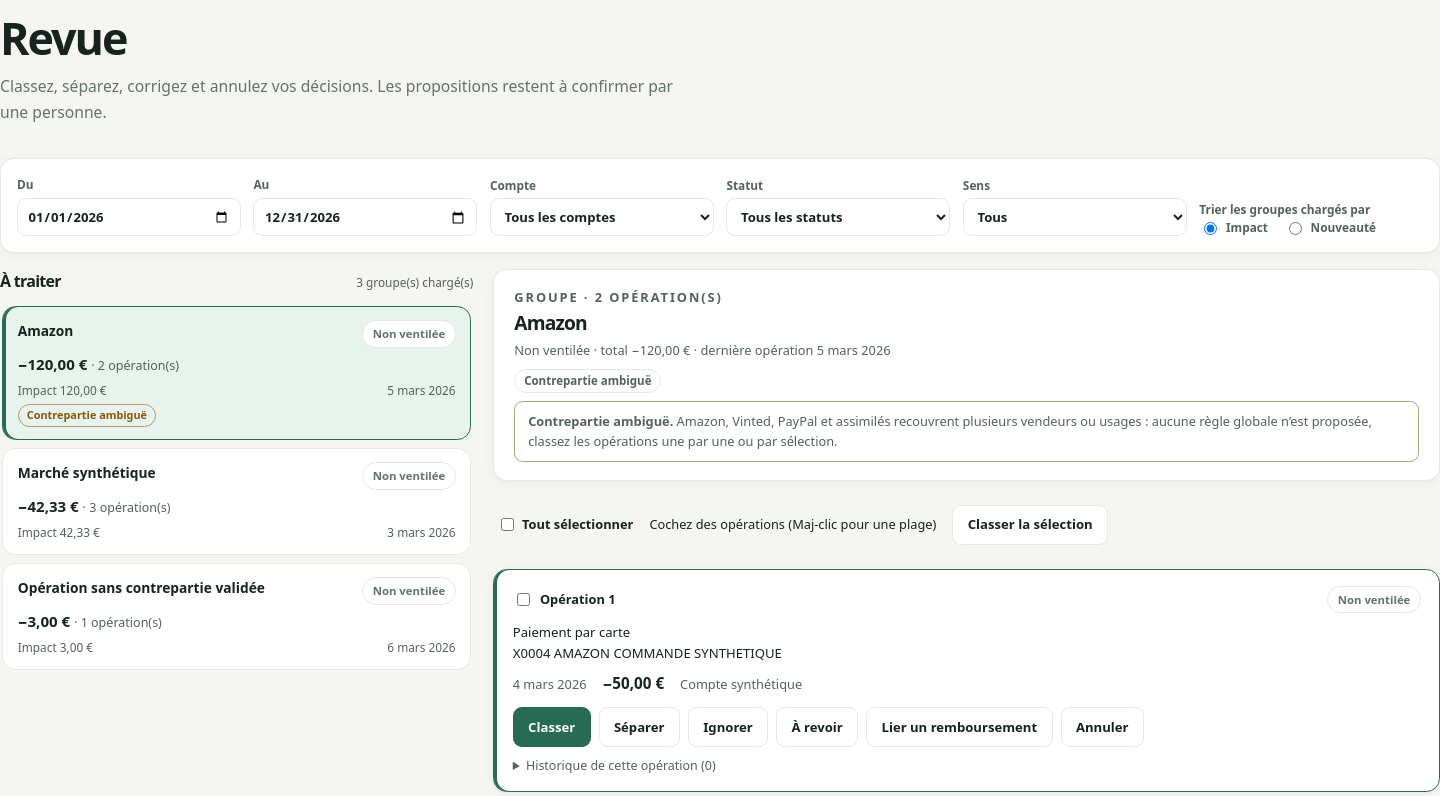
Test: UI-REVIEW-07 · clavier et accessibilité › navigue avec j/k, ouvre l’aide avec ? et rend le focus à la fermeture
This screenshot has width=1440, height=796.
Type keys "j"
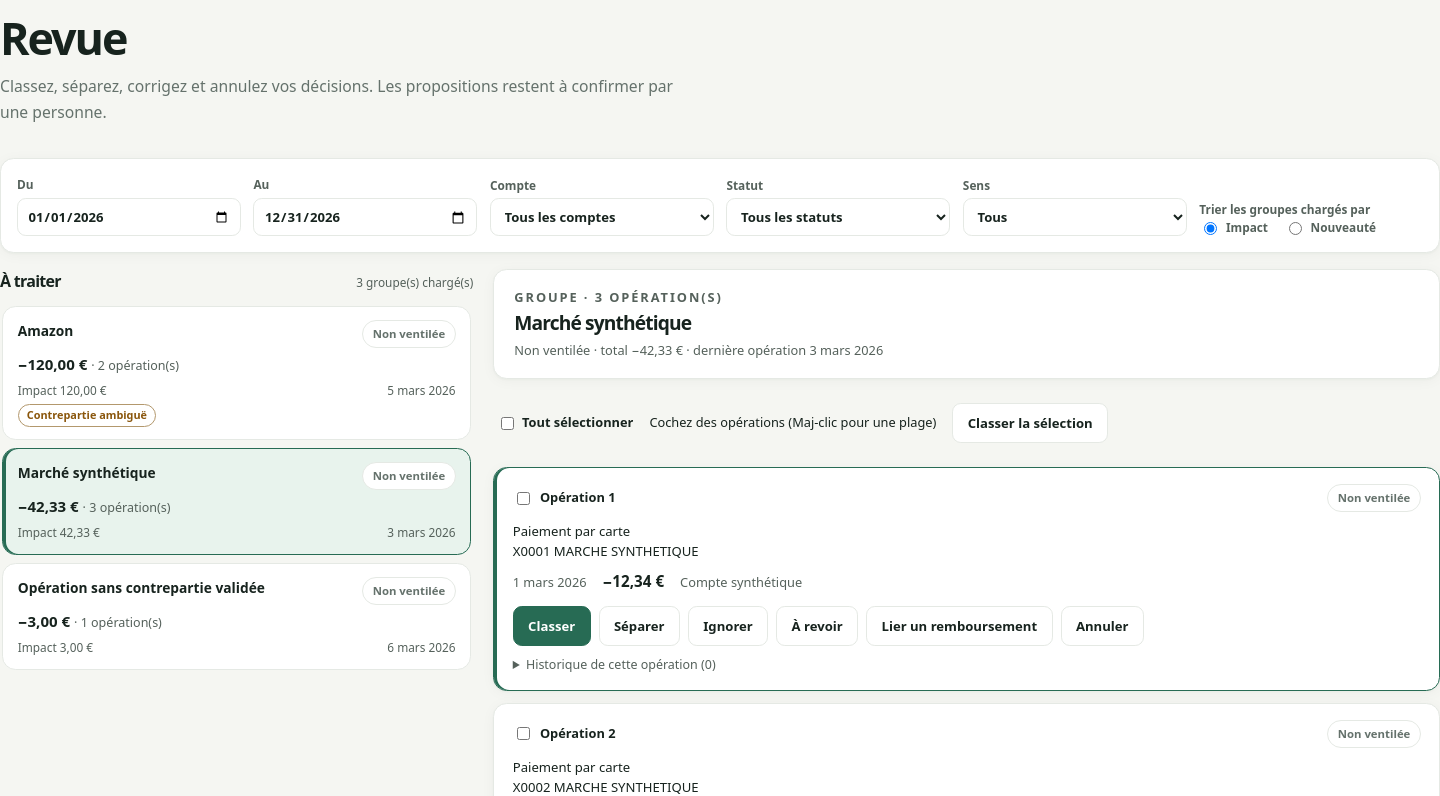
Expected: the option that starts with "Marché synthétique" is selected, 2,448 -> 471,555
Type keys "k"
(page scrolled)
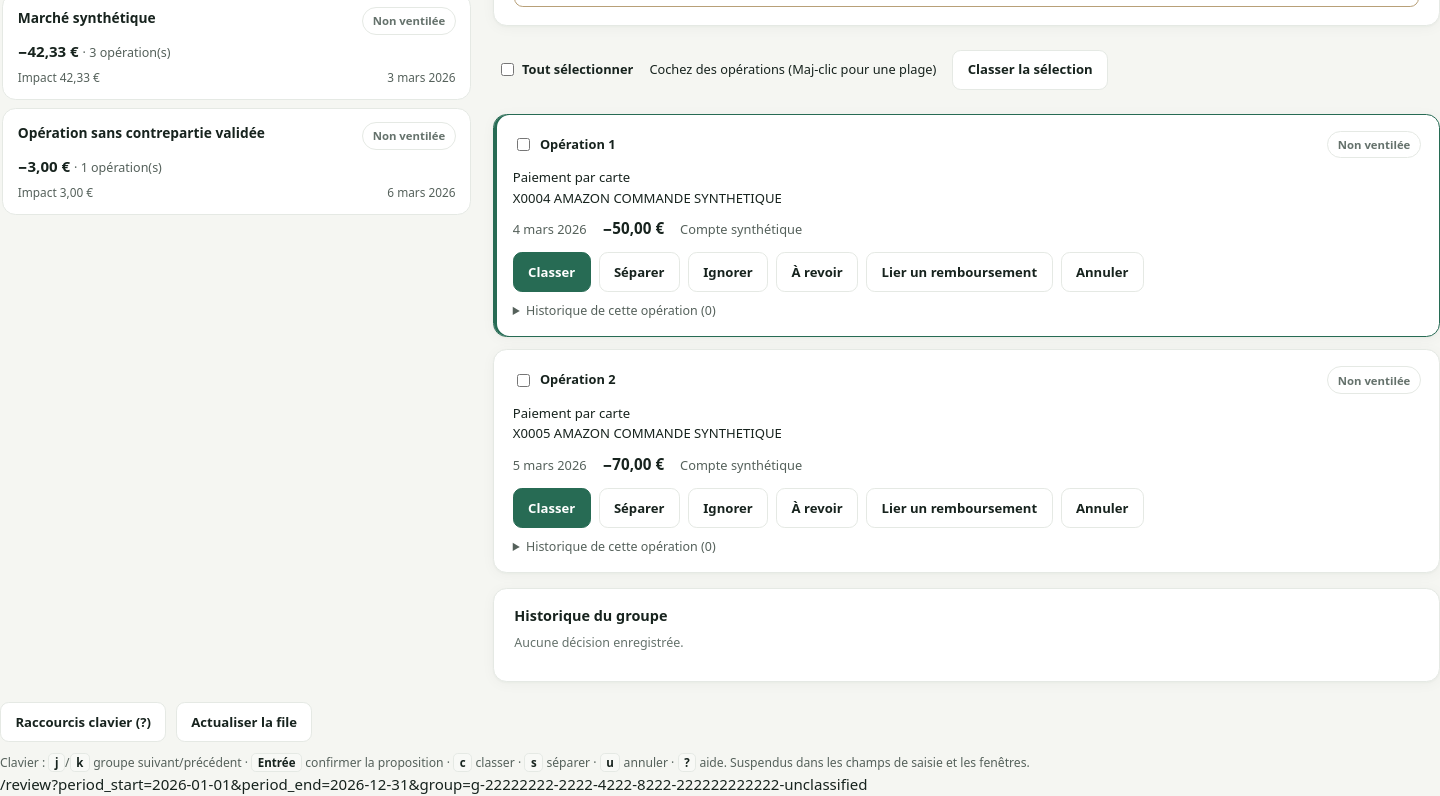
Click the button "Raccourcis clavier (?)".
click(83, 722)  # box 0,702 -> 166,742
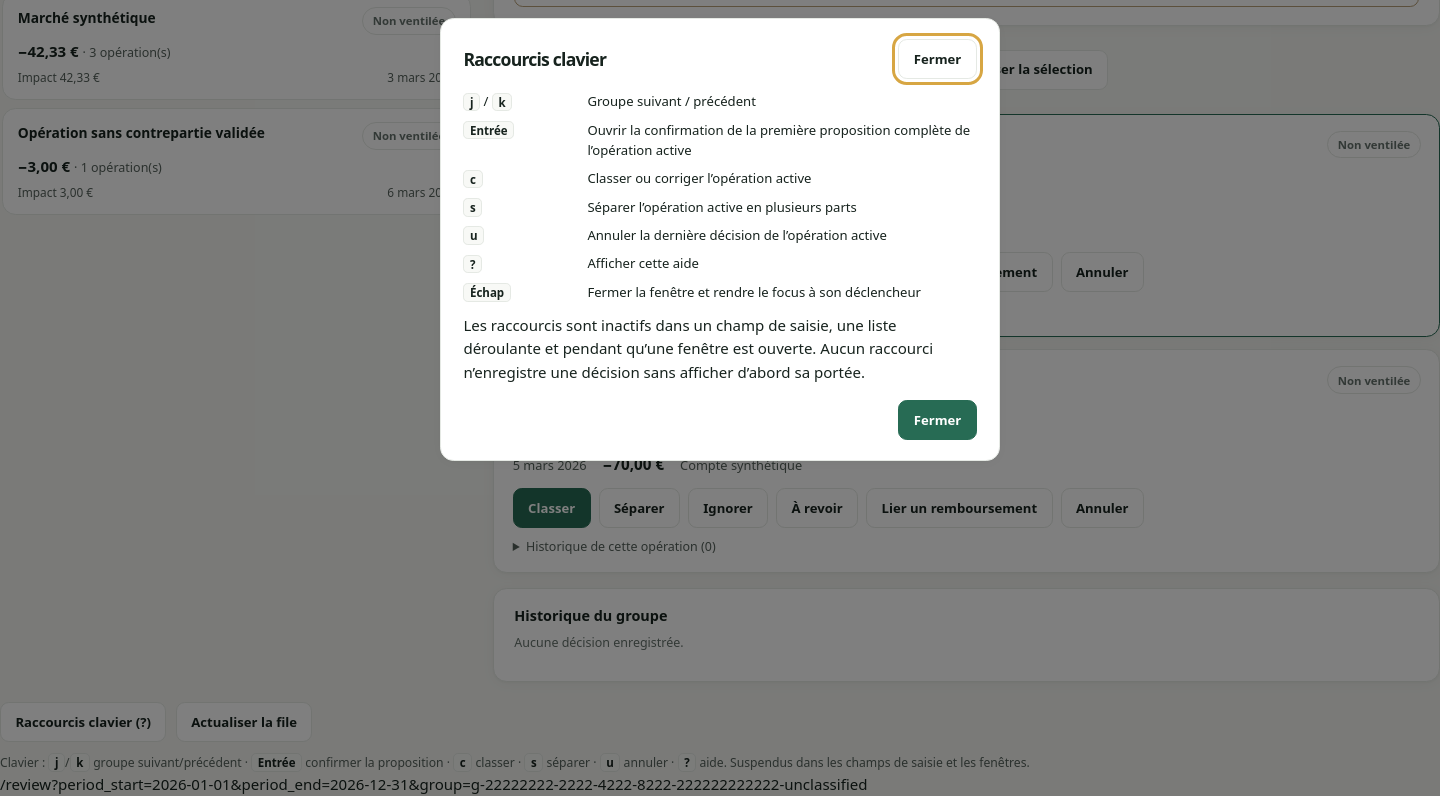
Expected: the text "Entrée" is shown, 463,121 -> 514,140
Press Escape
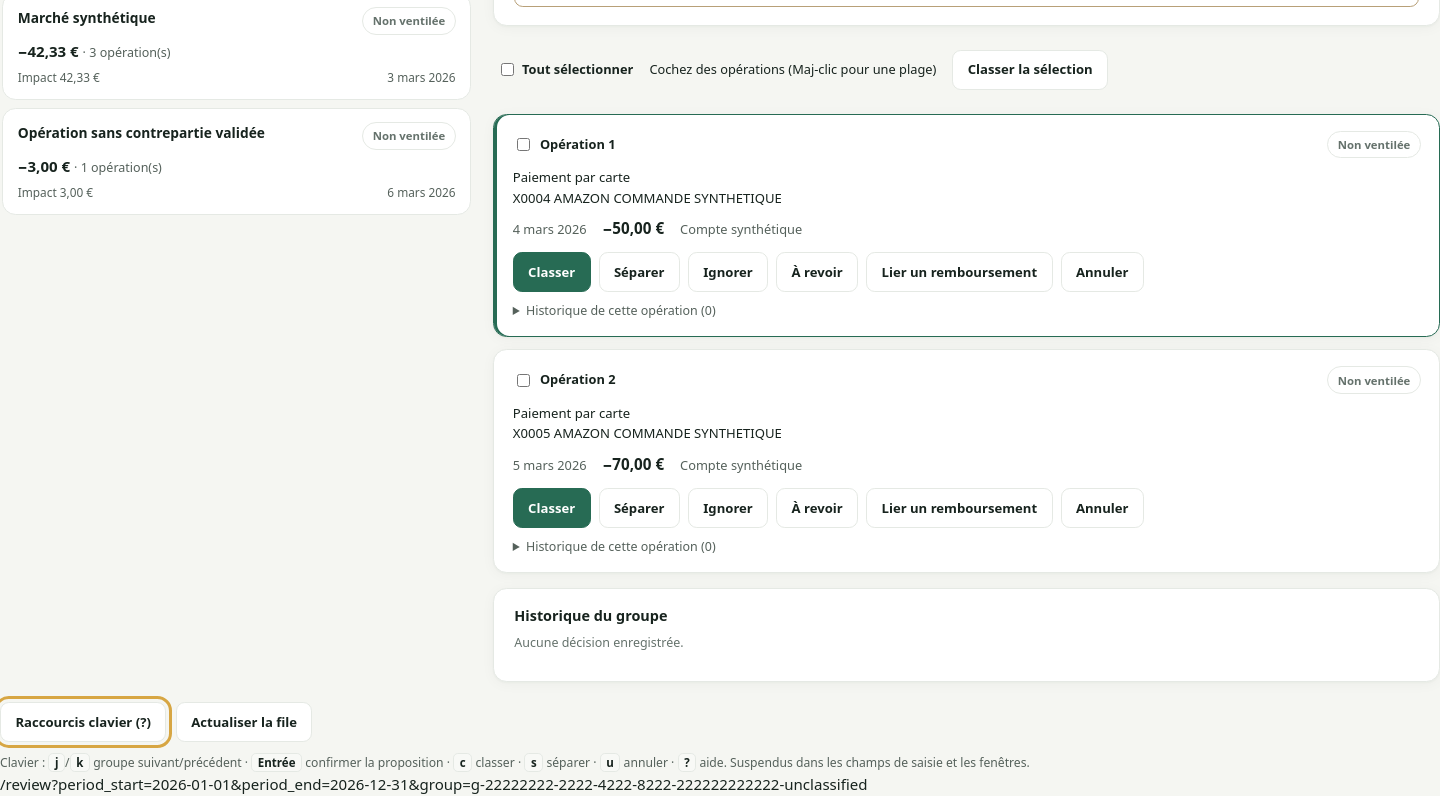
Expected: the dialog is gone
Type keys "?"
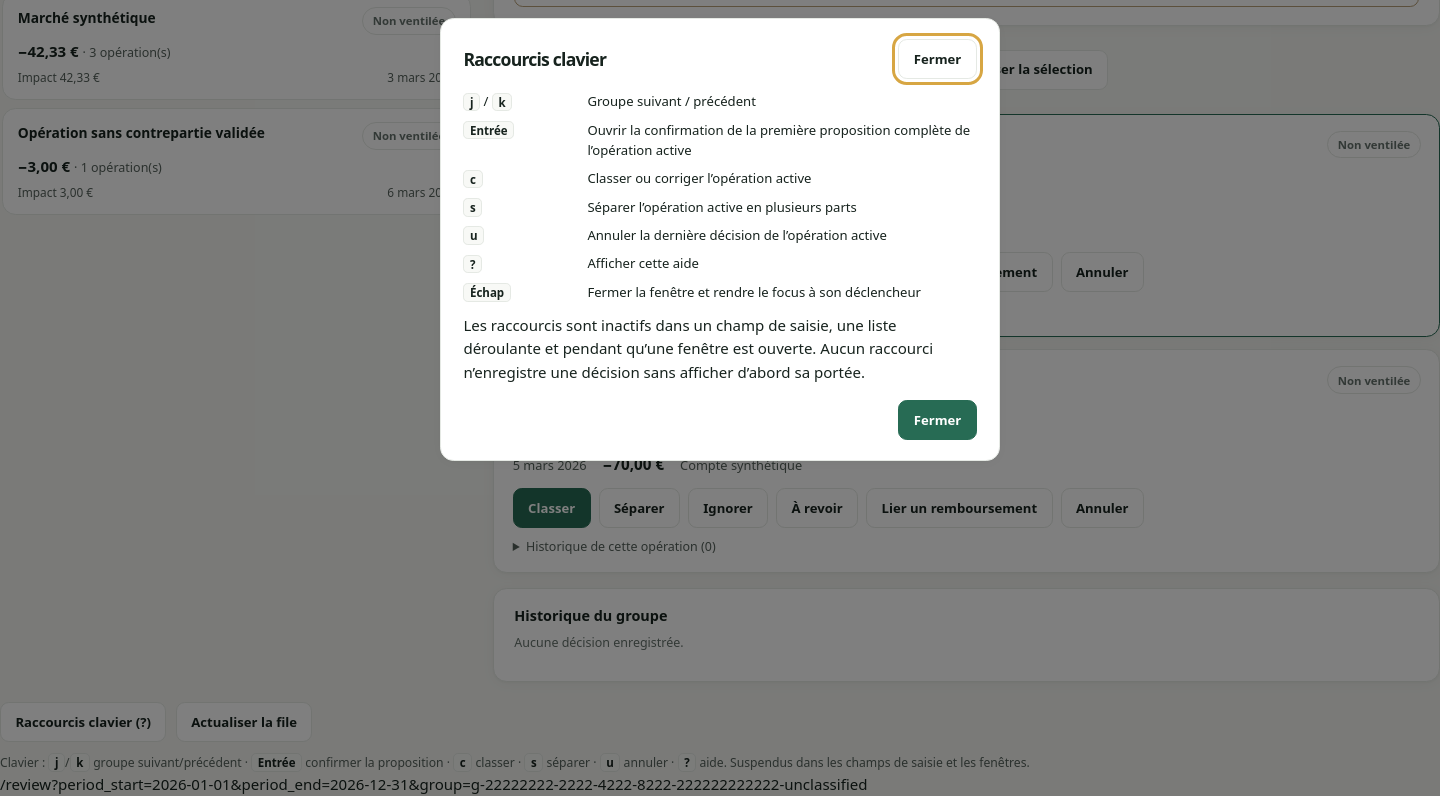
Expected: the dialog "Raccourcis clavier" is shown, 440,18 -> 1000,461
